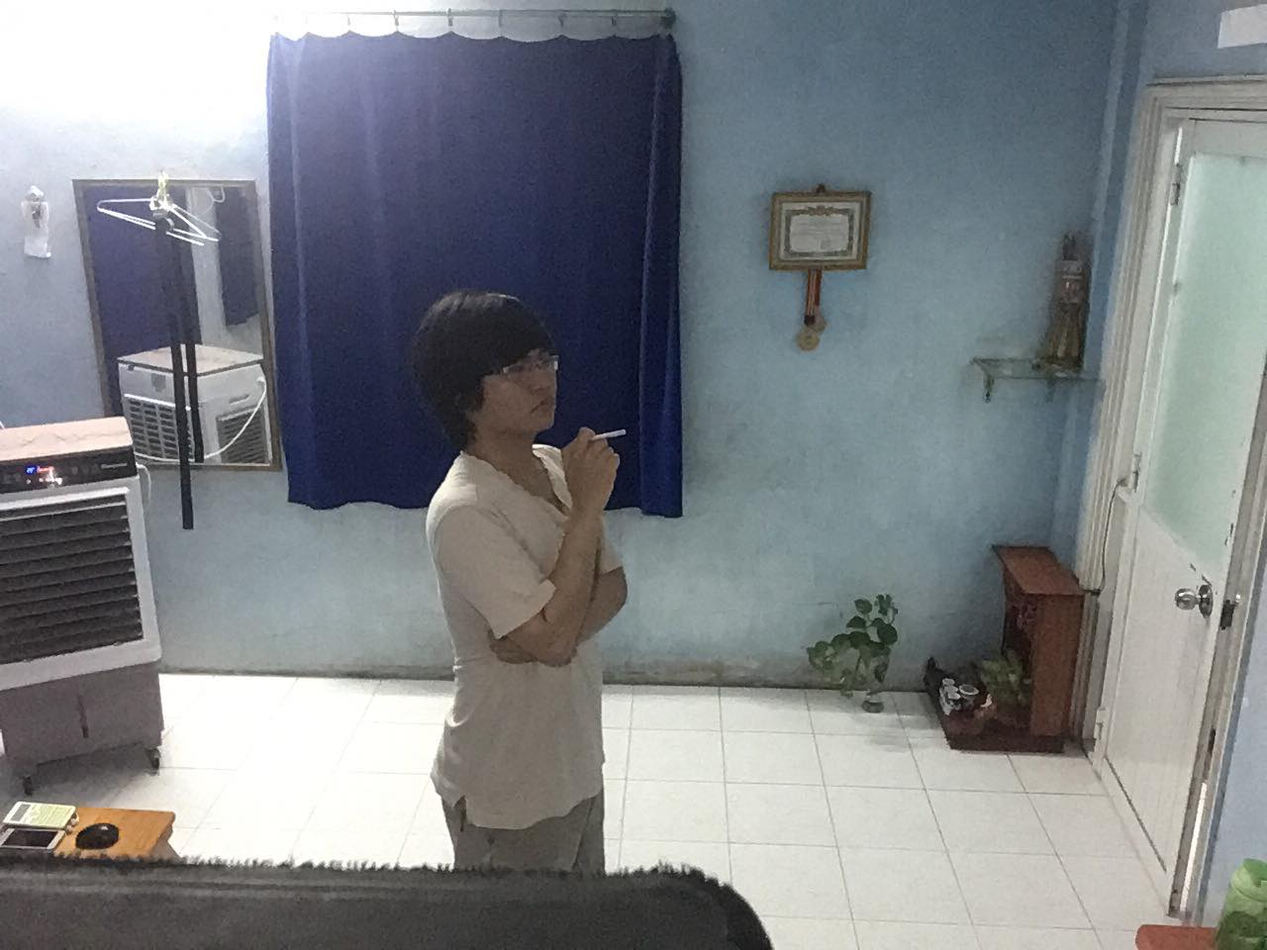cigarette: (590, 426, 630, 442)
person: (424, 303, 639, 876)
